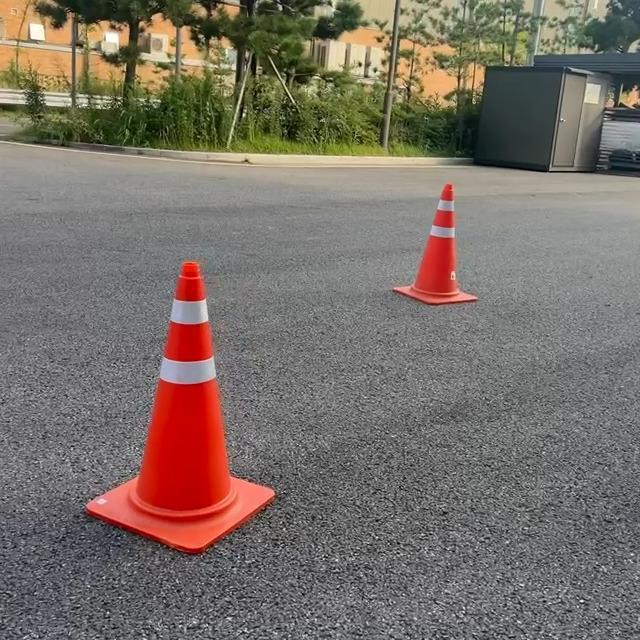fallen_object: (72, 186, 275, 558), (394, 163, 525, 341)
